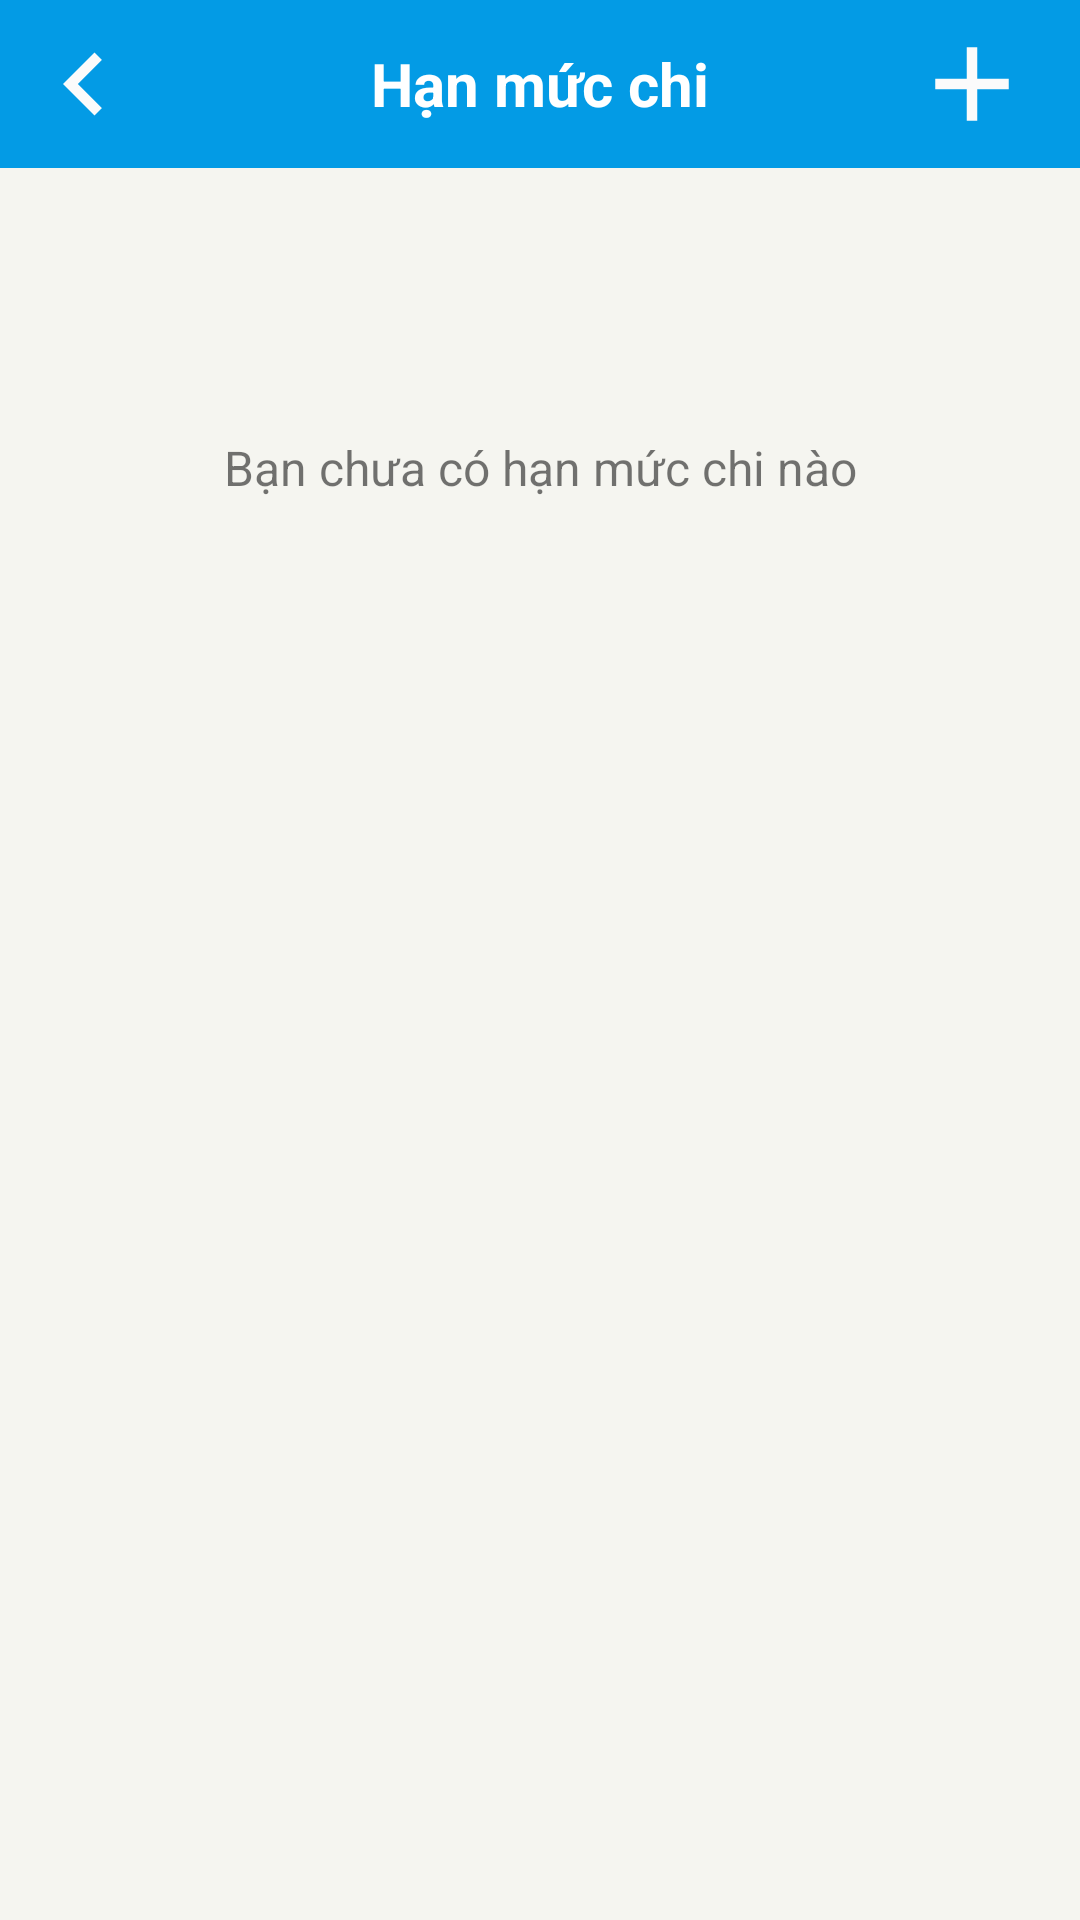

Icon bounding boxes for this 1080*1920 phone screenshot, format (x1, y1, x2, y2):
them: (935, 47, 1009, 121)
trolai: (63, 52, 102, 116)
